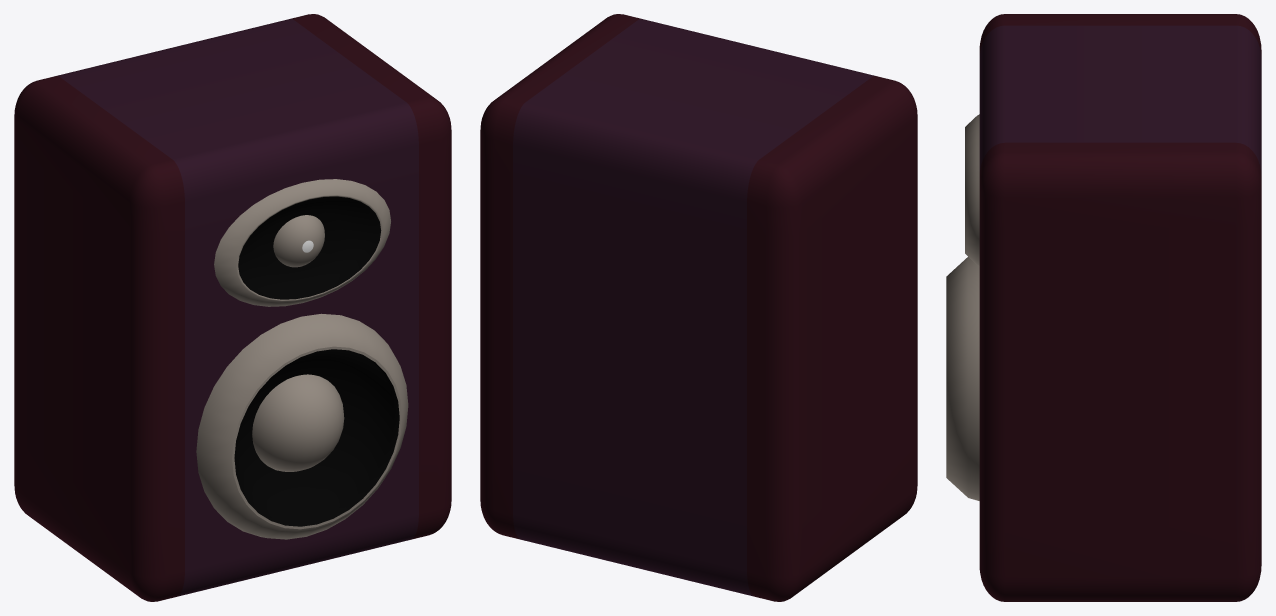
File: cassa.fbx
The picture shows the model from 3 angles, left to right: view 1: azimuth 30°, elevation 25°; view 2: azimuth 150°, elevation 25°; view 3: azimuth 270°, elevation 25°; orthographic projection. The views are drawn at different scales.
Visible parts, largest first — view 1: cassa, Sphere.001, Sphere.002, Sphere, Sphere.003; view 2: cassa; view 3: cassa, Sphere.001, Sphere.002.
Boxes of the visible parts, x1,y1,x2,y2 form: cassa: [14, 14, 451, 601]; Sphere.001: [196, 313, 408, 539]; Sphere.002: [214, 179, 390, 306]; Sphere: [252, 374, 344, 471]; Sphere.003: [273, 215, 324, 267]; cassa: [480, 14, 917, 601]; cassa: [979, 14, 1261, 601]; Sphere.001: [946, 257, 979, 500]; Sphere.002: [965, 114, 979, 266].
Size of the model in its own units: 220 by 288 by 183.
